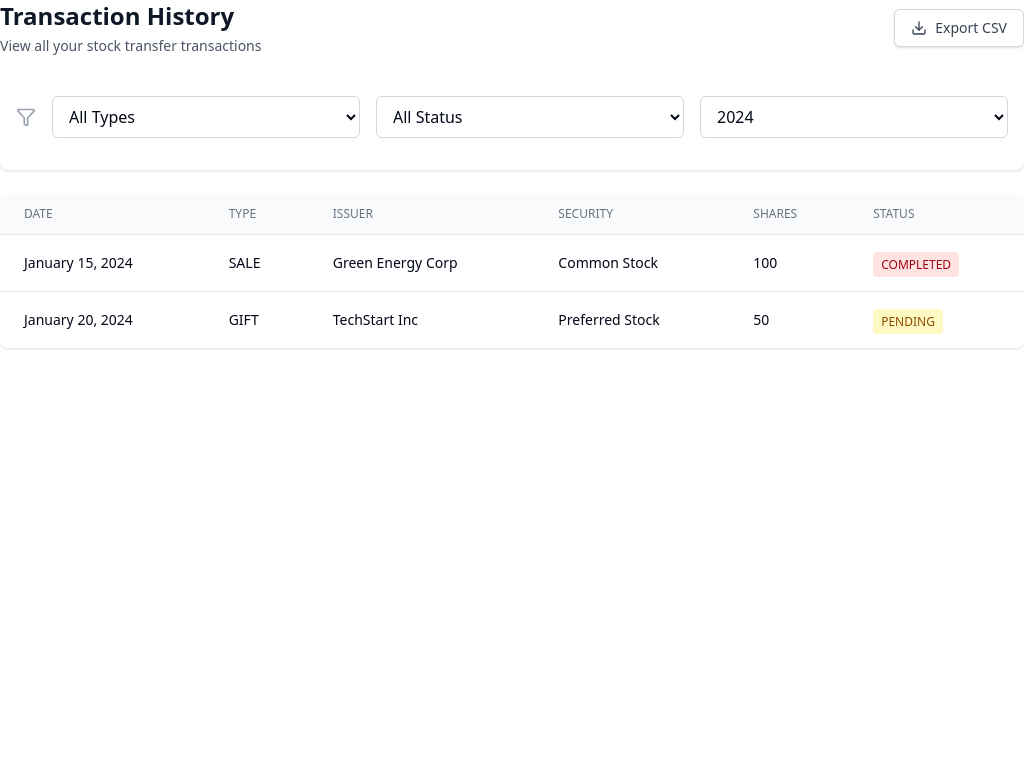
Test: TransactionsPage › opens detail modal when clicking on transaction row
Expected: the text "Green Energy Corp" is shown, [309,234,534,292]
Click the row that starts with "January 15, 2024" at (512, 263), box [0,234,1023,292]
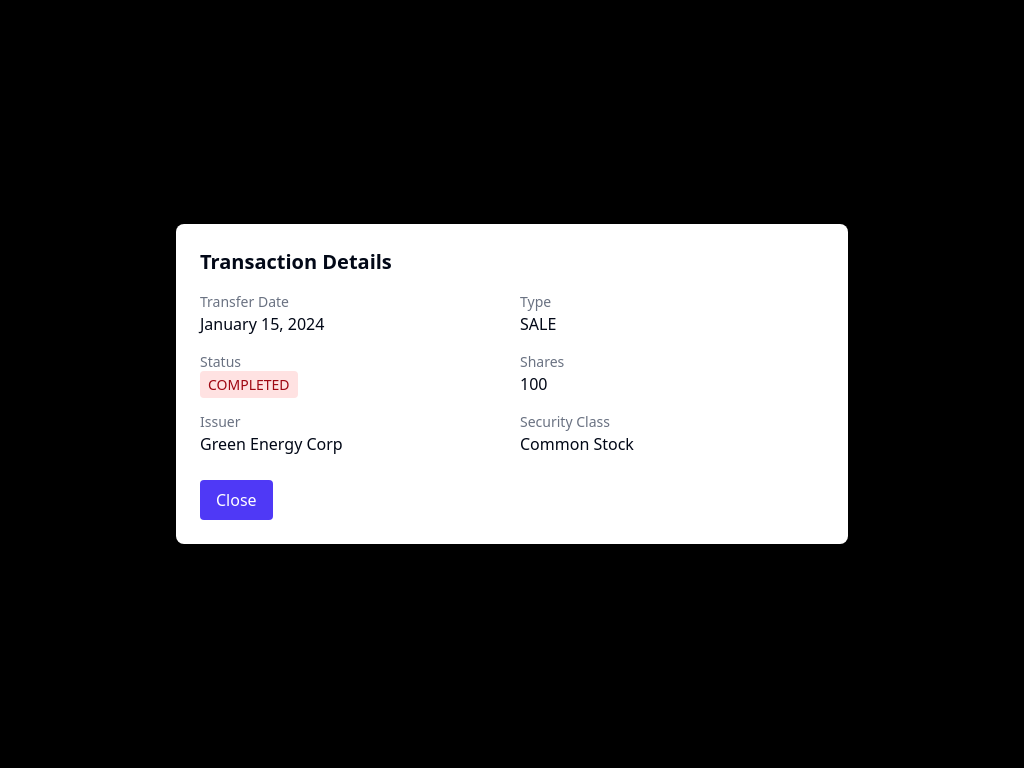
Expected: the heading "Transaction Details" is shown, [200,248,392,275]
